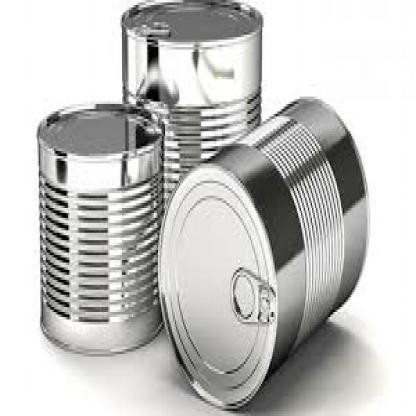METAL: (155, 92, 366, 408), (36, 102, 165, 357), (119, 0, 261, 228)
